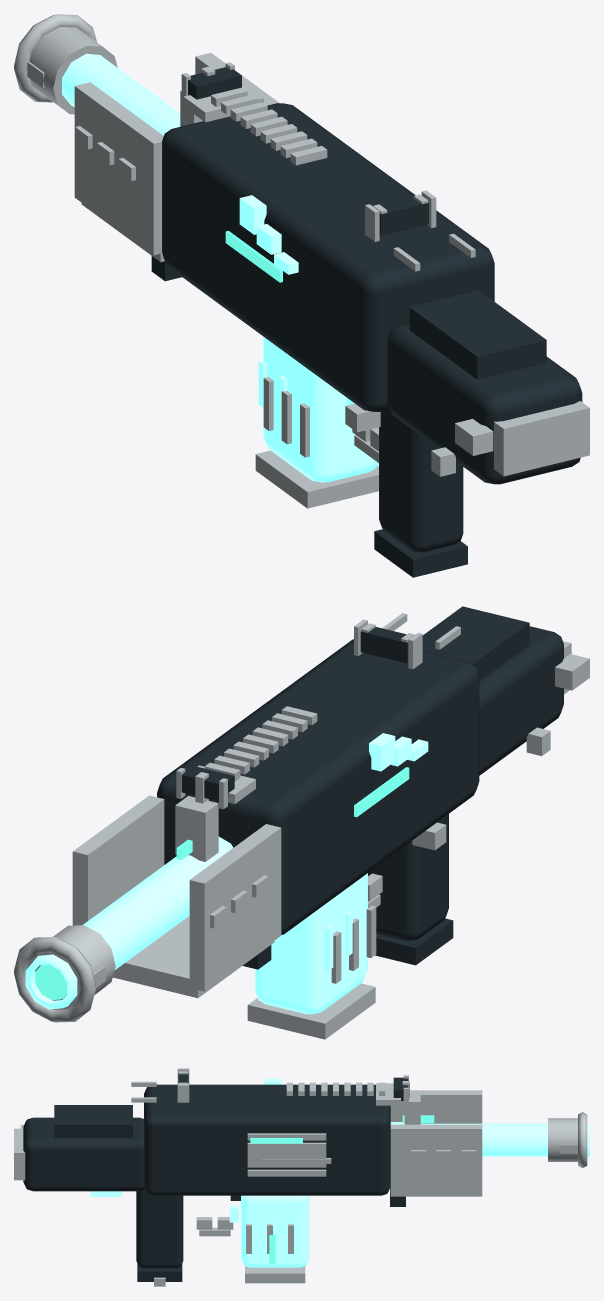
File: weapon-0.glb
3 views of the same model, one above another, from view 1: azimuth 30°, elevation 25°; view 2: azimuth 150°, elevation 25°; view 3: azimuth 270°, elevation 25° (orthographic). The views are drawn at different scales.
Visible parts, largest first — view 1: WorldBatch0, WorldBatch2, WorldBatch1, WorldBatch3; view 2: WorldBatch0, WorldBatch2, WorldBatch1, WorldBatch3; view 3: WorldBatch0, WorldBatch2, WorldBatch1, WorldBatch3.
Part boxes in pixels (x1,y1,x2,y2): WorldBatch0: [151, 67, 582, 577]; WorldBatch2: [14, 14, 589, 508]; WorldBatch1: [62, 53, 378, 482]; WorldBatch3: [225, 231, 282, 282]; WorldBatch0: [157, 606, 563, 969]; WorldBatch2: [14, 613, 589, 1039]; WorldBatch1: [25, 733, 428, 1014]; WorldBatch3: [35, 767, 409, 1000]; WorldBatch0: [23, 1073, 408, 1281]; WorldBatch2: [14, 1068, 587, 1286]; WorldBatch1: [90, 1078, 589, 1267]; WorldBatch3: [250, 1115, 434, 1263].
Size of the model in its own units: 0.193 by 0.422 by 1.1.
